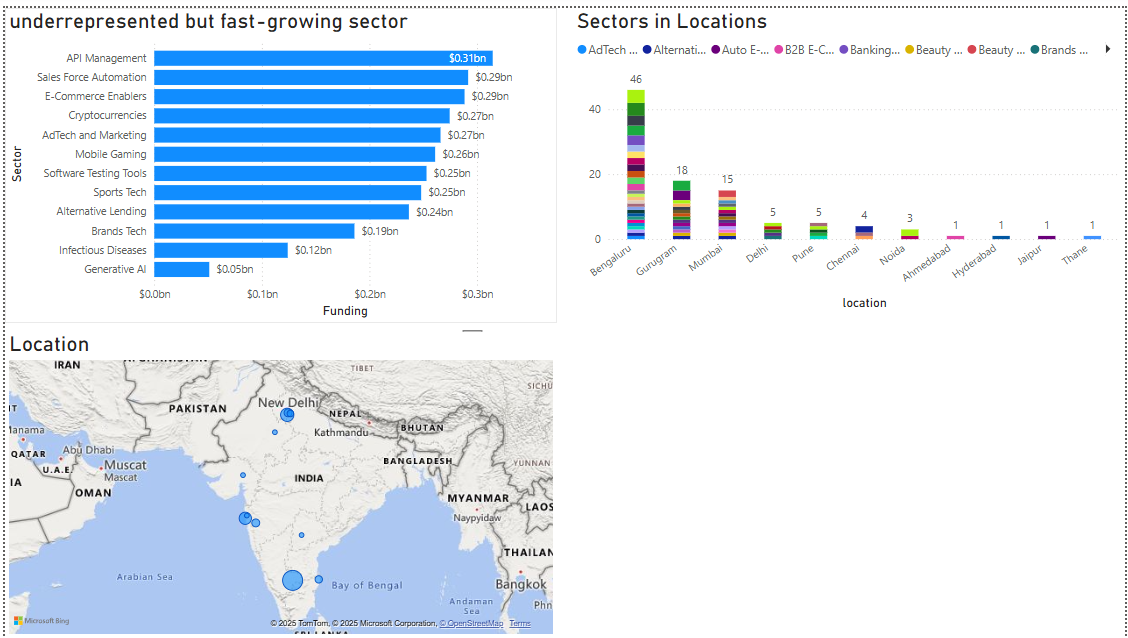

The dashboard page shown, as its layout file describes it:
{"tool":"powerbi","page":{"name":"Insights","canvas":[1280,720],"ordinal":2},"visuals":[{"type":"barChart","title":" underrepresented but fast-growing sector","fields":{"Category":["Unicorn_Data.primary_sector"],"Y":["Avg(Unicorn_Data.Total_funding)"]},"box":[0,0,631.2,359.5],"z":0},{"type":"map","title":"Location","fields":{"Category":["Unicorn_Data.location"],"X":["CountNonNull(Unicorn_Data.location)"],"Size":["CountNonNull(Unicorn_Data.location)"]},"box":[0,370,631,350],"z":1000},{"type":"ribbonChart","title":"Sectors in Locations","fields":{"Category":["Unicorn_Data.location"],"Y":["CountNonNull(Unicorn_Data.location)"],"Series":["Unicorn_Data.primary_sector"]},"box":[649.1,0,631.2,349.9],"z":2000}]}

Visuals, with their boxes in screenshot pixels (x1, y1, x2, y2), scaled from the page's 1280x720 canvas onto the 1128x638 screenshot:
" underrepresented but fast-growing sector" barChart: crop(0, 0, 556, 319)
"Location" map: crop(0, 328, 556, 637)
"Sectors in Locations" ribbonChart: crop(572, 0, 1127, 310)
